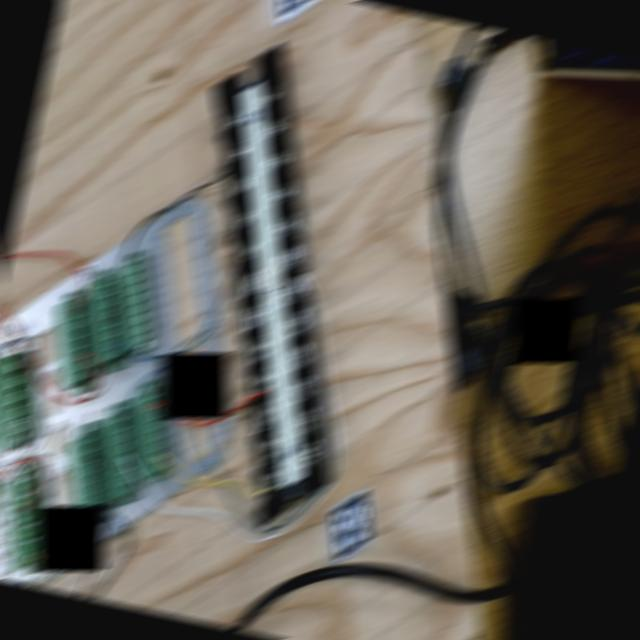Phillips_Block: (207, 43, 334, 526)
Terminal_1: (3, 469, 44, 570), (0, 352, 29, 451)
Terminal_2: (65, 428, 107, 525), (82, 272, 123, 367), (129, 385, 169, 480), (98, 406, 137, 503), (53, 294, 93, 388)
